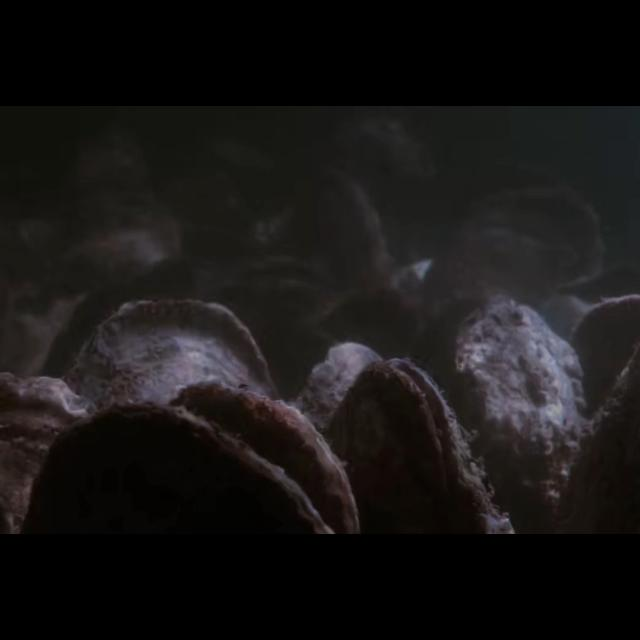Oyster-Closed: (63, 299, 280, 535), (23, 403, 334, 535), (445, 296, 589, 534), (166, 380, 360, 534), (422, 184, 604, 336), (288, 343, 384, 535), (0, 369, 98, 535), (294, 166, 398, 300), (51, 192, 187, 284), (569, 294, 640, 440)
Oyster-Open: (326, 358, 516, 534), (220, 254, 340, 316)
